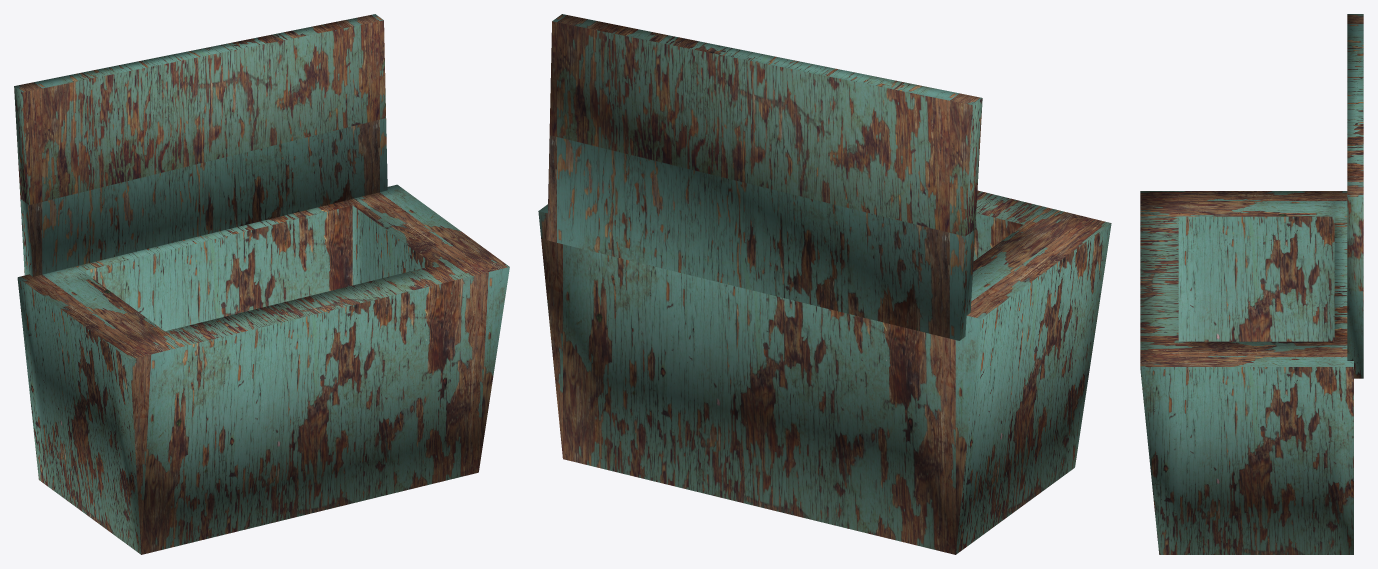
File: Мусорный ящик.fbx
3 views of the same model, side by side, from view 1: azimuth 30°, elevation 25°; view 2: azimuth 150°, elevation 25°; view 3: azimuth 270°, elevation 25° (orthographic). The views are drawn at different scales.
Visible parts, largest first — view 1: Объект Куб; view 2: Объект Куб; view 3: Объект Куб.
Boxes of the visible parts, <box> form: Объект Куб: <box>14,14,509,554</box>; Объект Куб: <box>538,14,1111,554</box>; Объект Куб: <box>1140,14,1363,554</box>.
Bounding box in the file's own units: 225 × 224 × 121.
1 material, 1 textured.
